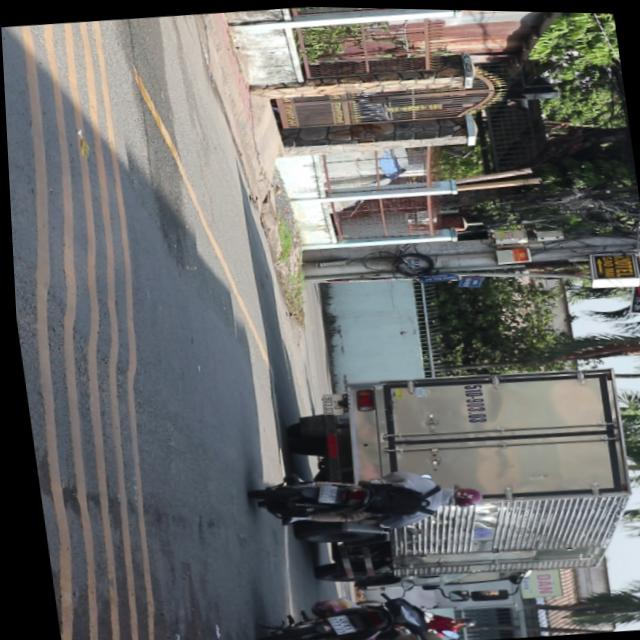helmet: (439, 481, 478, 504)
licenseplate: (242, 455, 481, 536)
nohelmet: (310, 481, 334, 501)
